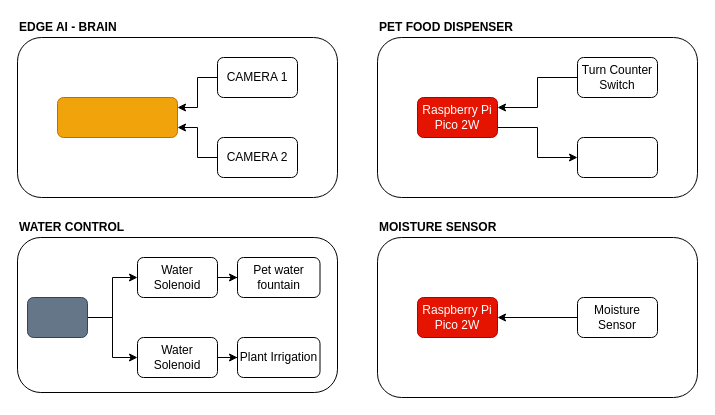
Some shapes in this 715 by 415 pixel diagram are drawn without their labels. The centre of each missing label's shape, as x and y in pixels:
"AXELERA AI METIS M2" goes at pixel 117 117.
"Motor" goes at pixel 617 157.
"Sonoff Relay" goes at pixel 57 317.
